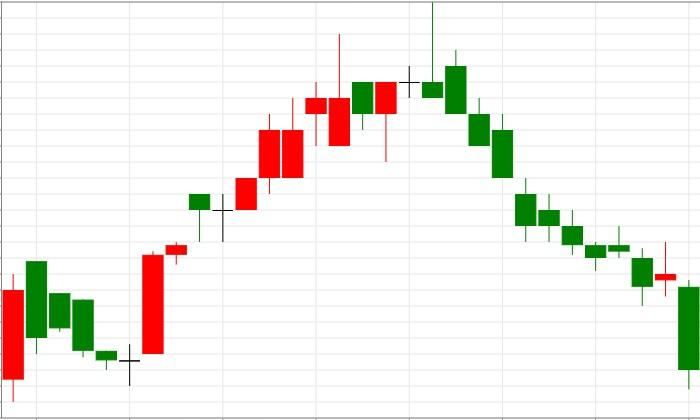evening_star_fall: (118, 3, 444, 386)
morning_star_rise: (25, 251, 165, 387)
shooting_star_fall: (119, 2, 445, 386)
